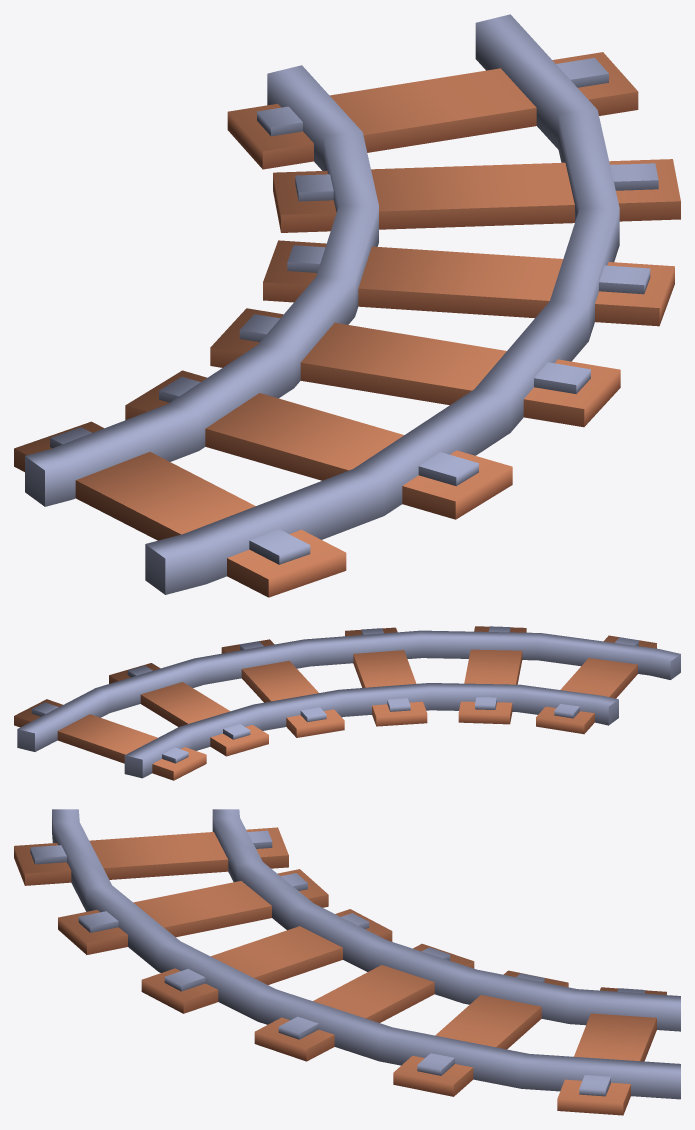
File: railroad-corner-small.glb
3 renders of one model, top to bottom at view 1: azimuth 30°, elevation 25°; view 2: azimuth 150°, elevation 25°; view 3: azimuth 270°, elevation 25°, orthographic. The views are drawn at different scales.
Parts seen in each view (by area): view 1: railroad-corner-small; view 2: railroad-corner-small; view 3: railroad-corner-small.
Part boxes in pixels (x1,y1,x2,y2): railroad-corner-small: (14, 14, 680, 597); railroad-corner-small: (14, 626, 680, 780); railroad-corner-small: (14, 809, 680, 1115).
Bounding box in the file's own units: 2.49 × 0.1 × 2.49.
